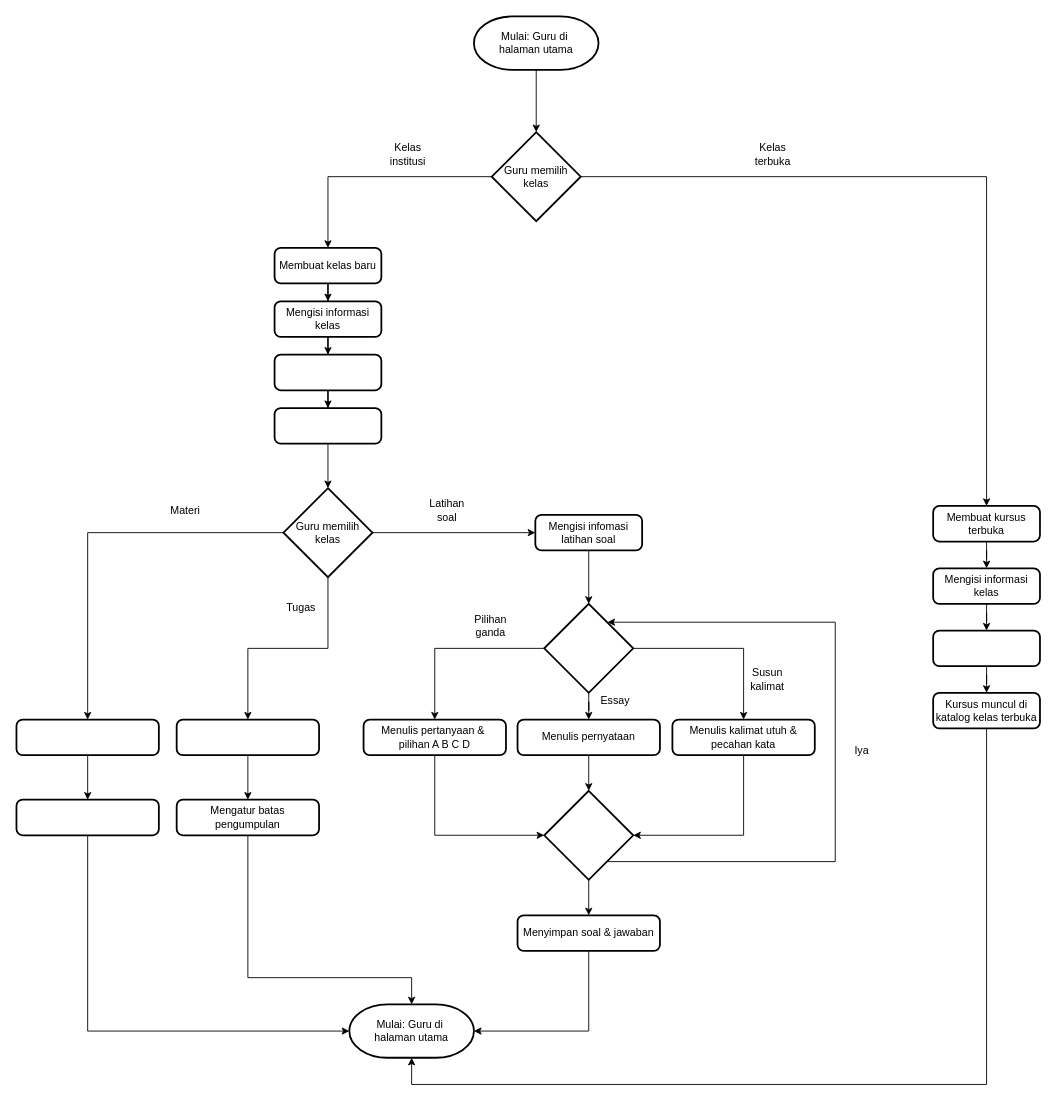
This 1056x1107 diagram has some shape labels left out. The shapes that lost their labels are listed below. From the top down, each one's box as (x1, y1, x2, y2) in pixels, then its label:
(273, 353, 382, 391): Kode unik kelas oleh system
(273, 407, 382, 444): Memilih pertemuan
(543, 603, 634, 693): Jenis soal
(932, 629, 1040, 667): Menambah modul kelas
(15, 718, 159, 756): Mengisi judul & isi materi
(175, 718, 320, 756): Mengisi judul & deskripsi tugas
(15, 798, 159, 836): Mengunggah dokumen pendukung
(543, 789, 634, 880): Tambah soal?
